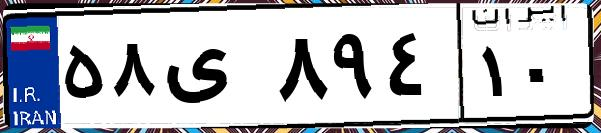0: (525, 38, 570, 115)
1: (475, 38, 525, 113)
4: (385, 28, 445, 110)
5: (57, 26, 110, 100)
8: (270, 28, 330, 110), (110, 28, 158, 98)
9: (330, 28, 385, 110)
ی: (158, 20, 270, 120)
